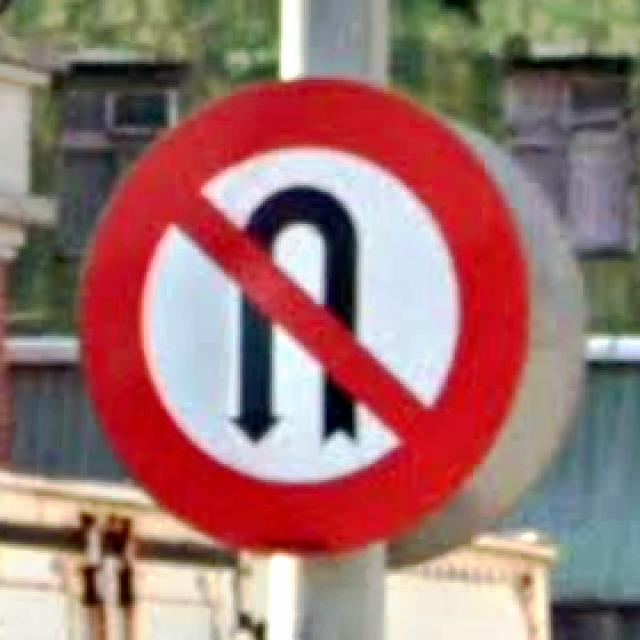nouturn: (85, 80, 530, 553)
